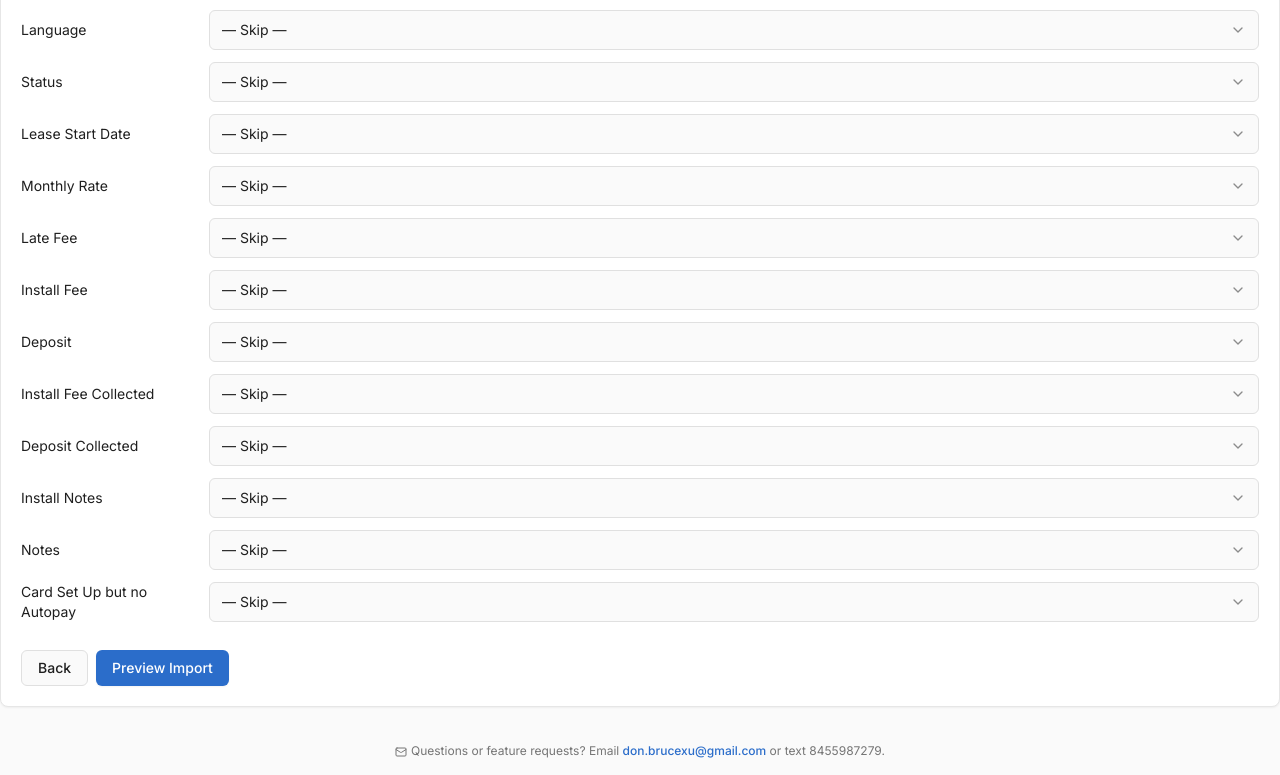
Test: ImportPage › shows a blocked-by-plan preview message when the free tier is already full
Earlier steps of the test are not shown.
Later steps or results of the test are not shown.
(page scrolled)
Click the button "Preview Import": (162, 668) [96, 650, 229, 686]
(page scrolled)
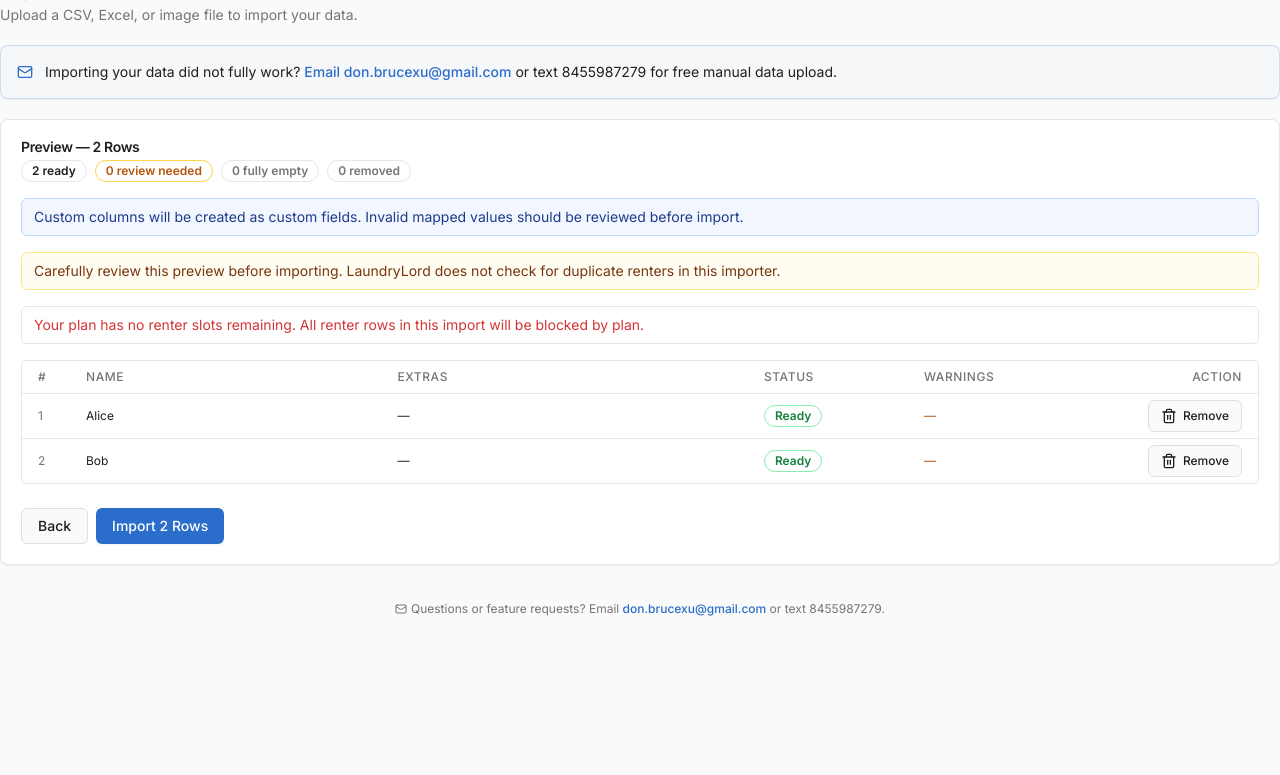
Result: the text "Your plan has no renter slots remaining. All renter rows in this import will be blocked by plan." is shown at [34, 316, 644, 333]
